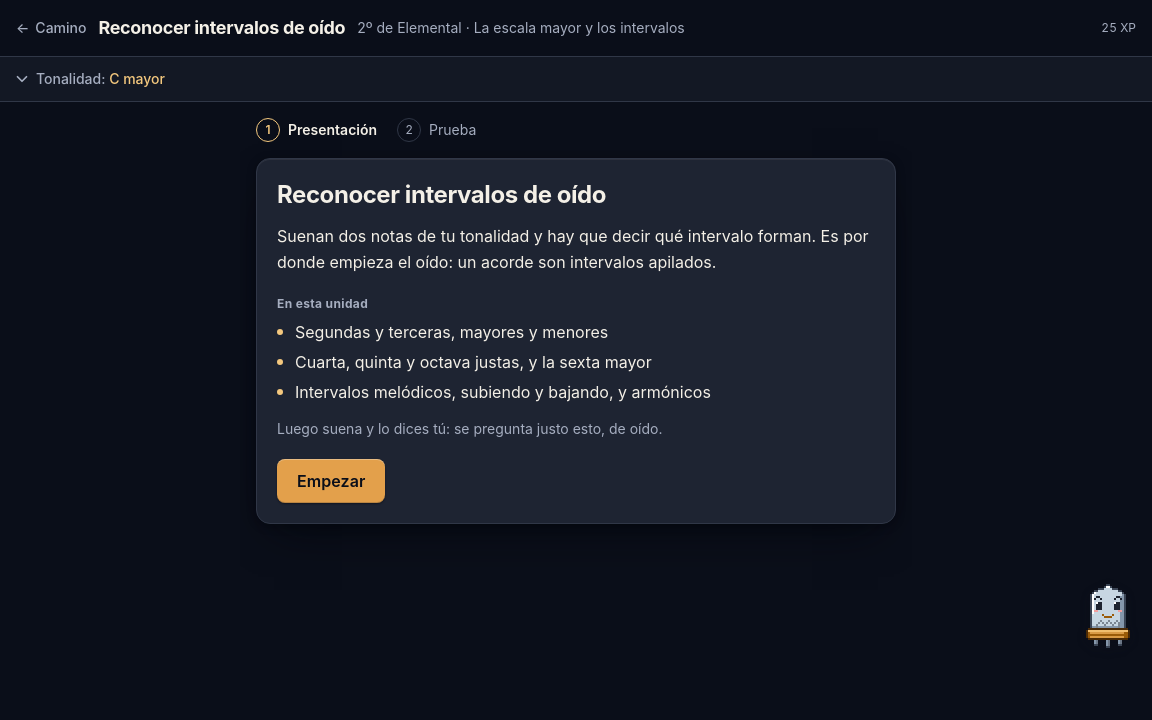
Scenario: lo que se falla › y una de oido tambien
The width and height of the screenshot is (1152, 720).
Click the button "Empezar" at (331, 481), box [277,459,385,503]
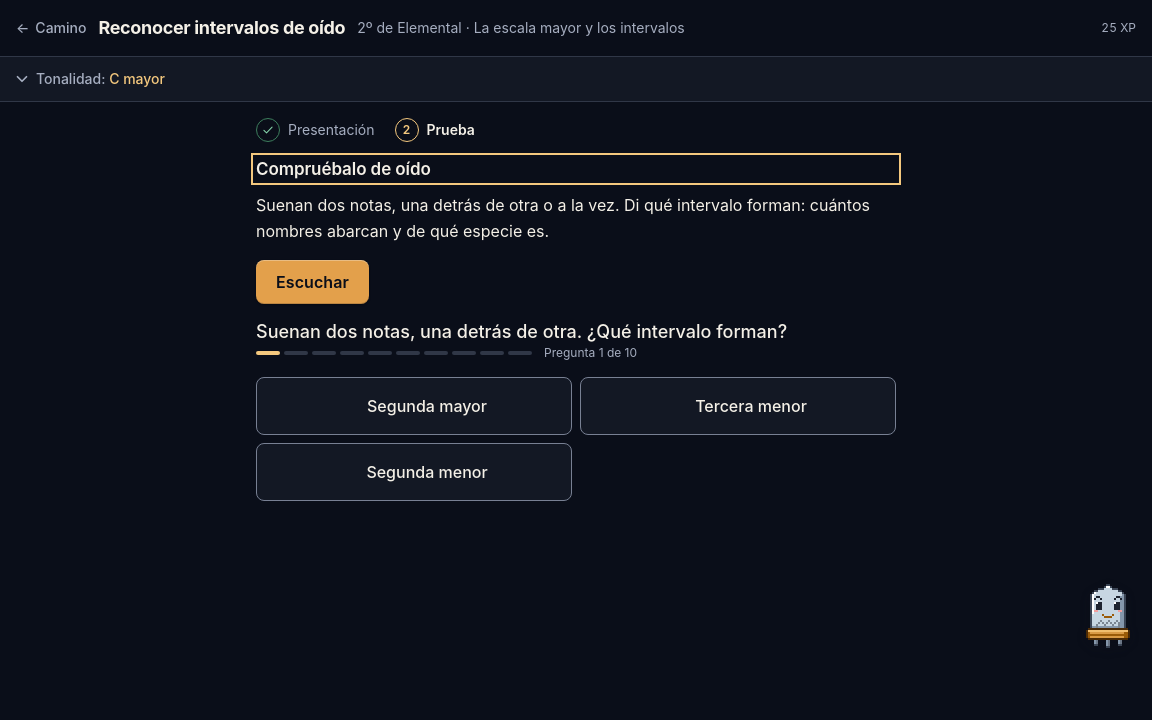
Click the button "Tercera menor" at (738, 406), box [580,377,896,435]
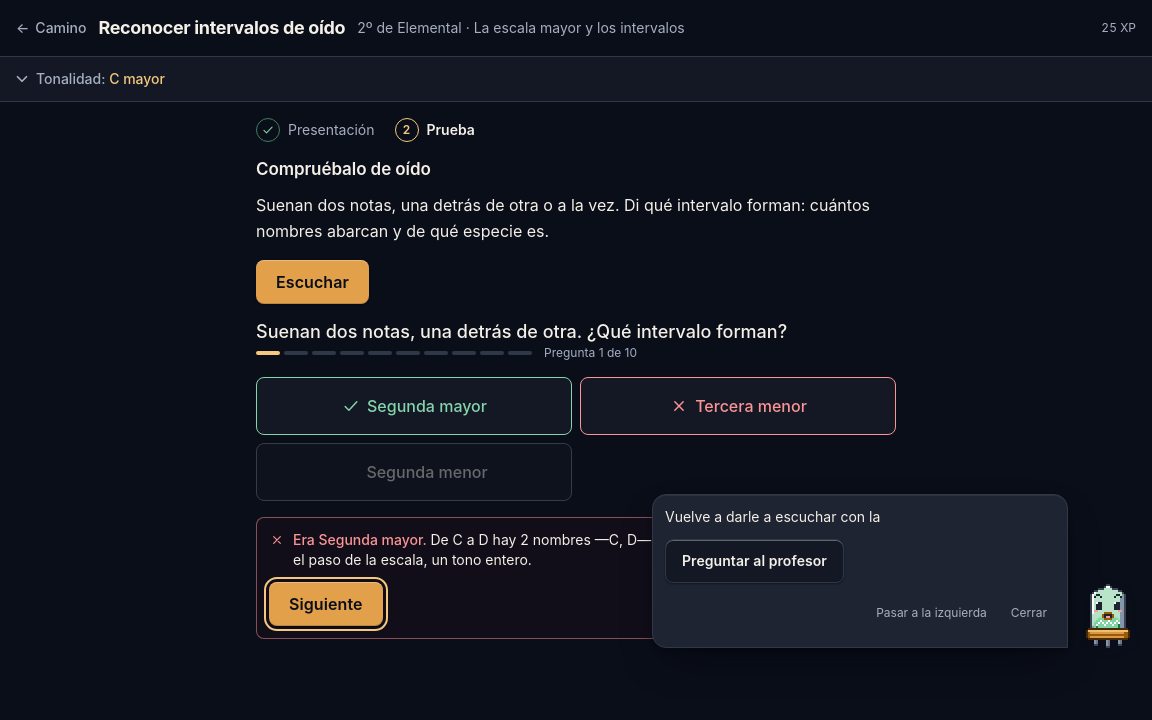
expect the text "Era Segunda mayor." is shown: met, box [293,531,430,548]
